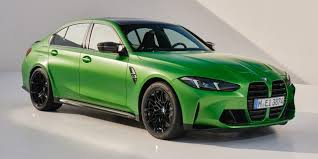car: (18, 19, 298, 139)
